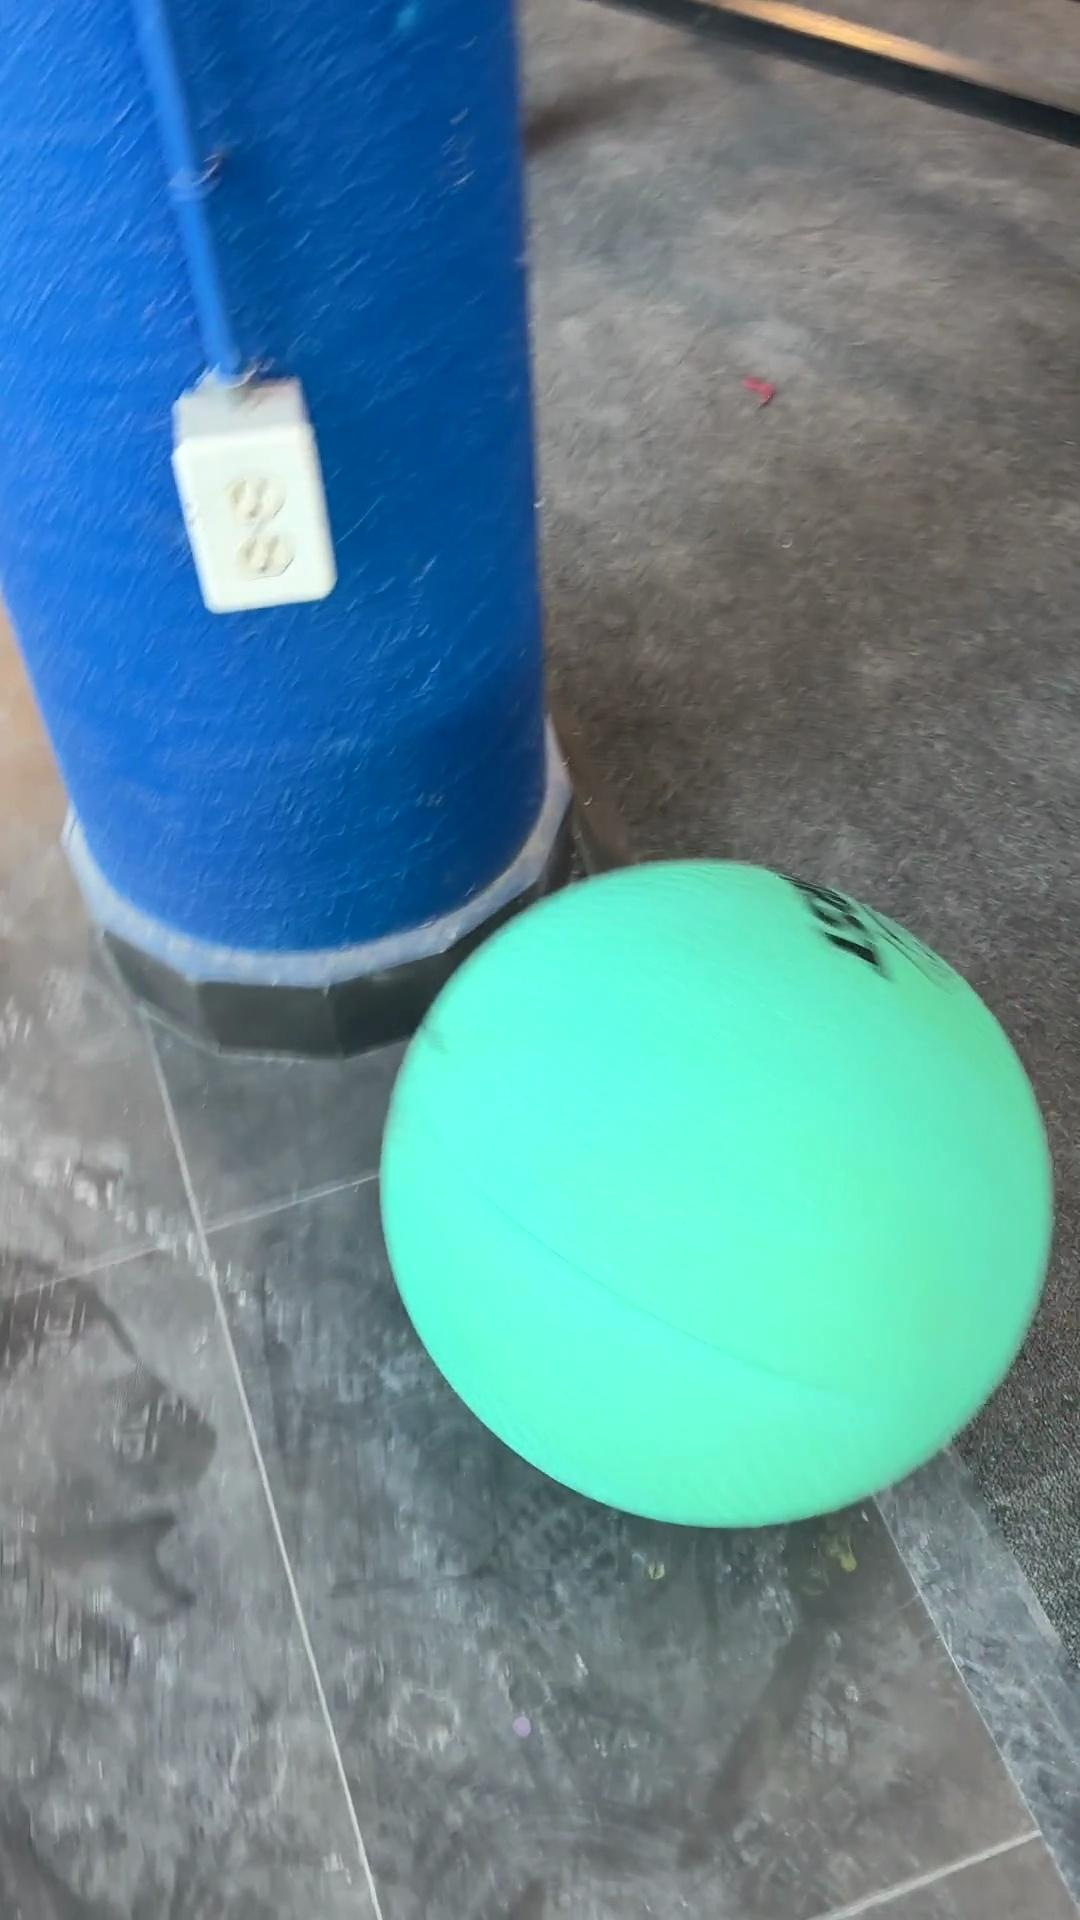ALGAE: (375, 853, 1056, 1531)
